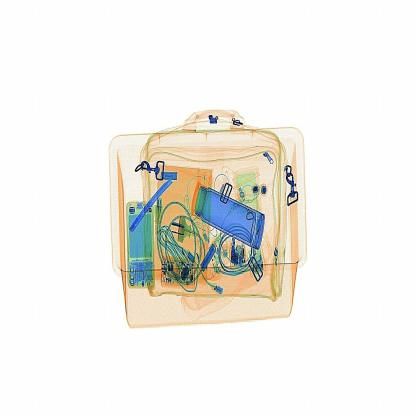pliers: (124, 170, 181, 244)
